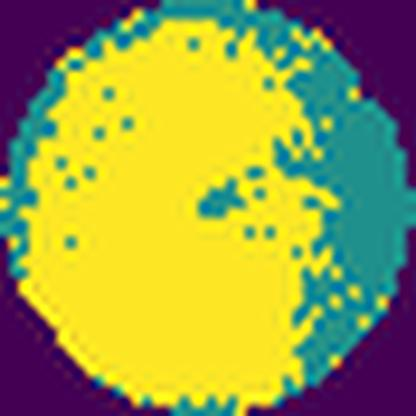Loc: (22, 18, 340, 406)
